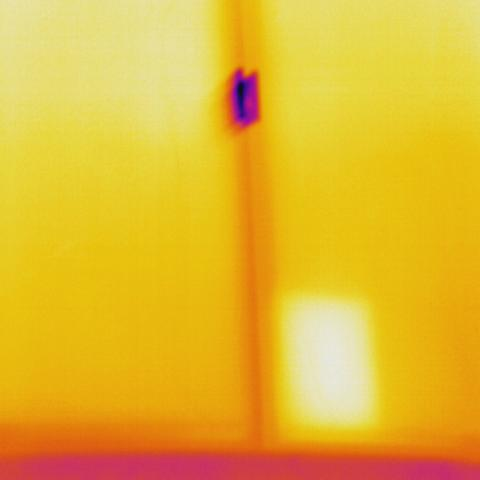fault: (276, 283, 386, 435)
